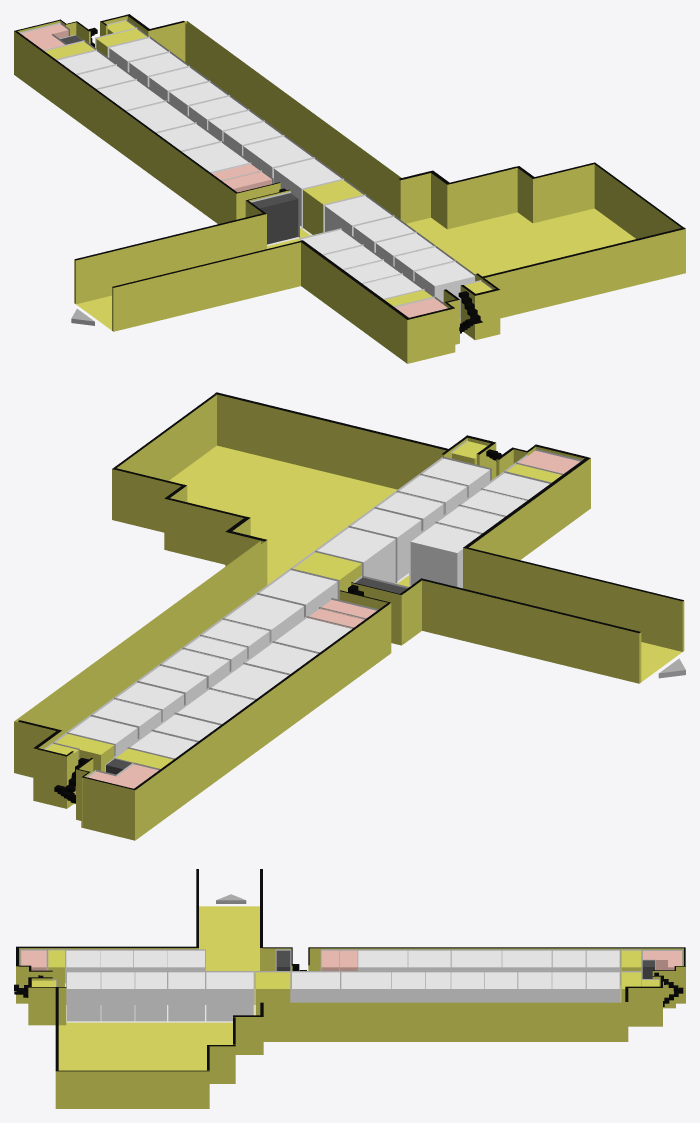
3 renders of one model, top to bottom at view 1: azimuth 30°, elevation 25°; view 2: azimuth 150°, elevation 25°; view 3: azimuth 270°, elevation 25°, orthographic. The views are drawn at different scales.
Parts seen in each view (by area): view 1: object, エレベーター_10_5_2, object_10_5_1, room_10_5_19, room_10_5_20, room_10_5_18, room_10_5_24, room_10_5_7, room_10_5_8, room_10_5_5, room_10_5_21, room_10_5_12 (+19 smaller); view 2: object, room_10_5_4, room_10_5_20, room_10_5_18, room_10_5_19, room_10_5_21, room_10_5_7, room_10_5_5, room_10_5_8, object_10_5_1, room_10_5_23, room_10_5_13 (+17 smaller); view 3: object, room_10_5_20, room_10_5_21, room_10_5_23, room_10_5_24, room_10_5_22, room_10_5_18, room_10_5_19, object_10_5_1, room_10_5_7, room_10_5_11, room_10_5_12 (+21 smaller).
Boxes of the visible parts, <box> form: object: <box>14,14,685,363</box>; エレベーター_10_5_2: <box>252,193,298,244</box>; object_10_5_1: <box>303,180,362,234</box>; room_10_5_19: <box>274,158,341,226</box>; room_10_5_20: <box>325,196,391,235</box>; room_10_5_18: <box>243,136,312,176</box>; room_10_5_24: <box>415,262,474,317</box>; room_10_5_7: <box>127,102,195,133</box>; room_10_5_8: <box>98,80,165,111</box>; room_10_5_5: <box>182,142,250,173</box>; room_10_5_21: <box>353,217,413,251</box>; room_10_5_12: <box>129,52,188,86</box>; object: <box>14,392,684,840</box>; room_10_5_4: <box>410,523,480,588</box>; room_10_5_20: <box>317,527,395,583</box>; room_10_5_18: <box>223,594,303,642</box>; room_10_5_19: <box>260,570,337,615</box>; room_10_5_21: <box>351,508,421,580</box>; room_10_5_7: <box>210,664,288,700</box>; room_10_5_5: <box>273,618,351,653</box>; room_10_5_8: <box>177,689,254,723</box>; object_10_5_1: <box>293,552,361,599</box>; room_10_5_23: <box>397,475,466,514</box>; room_10_5_13: <box>115,682,183,722</box>; object: <box>16,869,685,1108</box>; room_10_5_20: <box>206,972,253,1021</box>; room_10_5_21: <box>168,972,204,1021</box>; room_10_5_23: <box>101,972,134,1021</box>; room_10_5_24: <box>67,972,100,1021</box>; room_10_5_22: <box>135,972,166,1021</box>; room_10_5_18: <box>341,972,391,1002</box>; room_10_5_19: <box>292,972,339,1002</box>; object_10_5_1: <box>256,972,290,1015</box>; room_10_5_7: <box>451,950,501,970</box>; room_10_5_11: <box>586,972,619,1002</box>; room_10_5_12: <box>552,972,585,1002</box>.
Bounding box in the file's own units: 1.99 × 0.1991 × 2.67.
